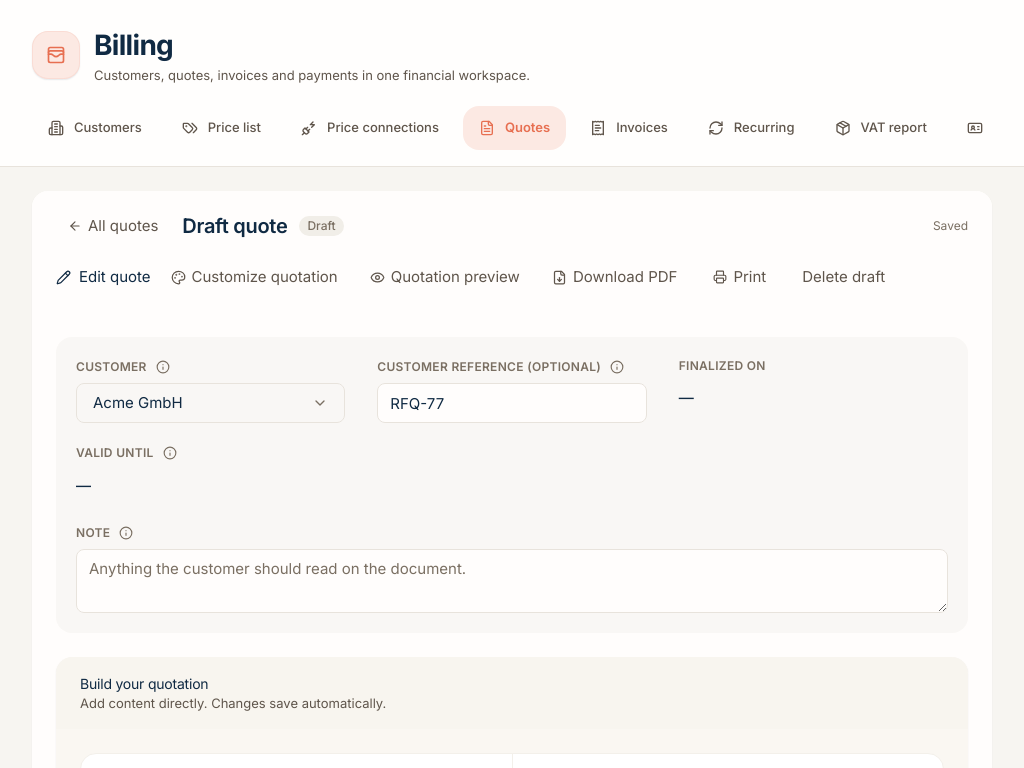
Scenario: the offer's transitions › keeps the quotation action bar stable and lets editing leave preview
The image size is (1024, 768).
Expected: the button "Edit quote" is enabled, [56,257,150,297]
Expected: the button "Customize quotation" is shown, [158,258,350,296]
Click the button "Quotation preview".
click(445, 277)  # box [358,258,532,296]
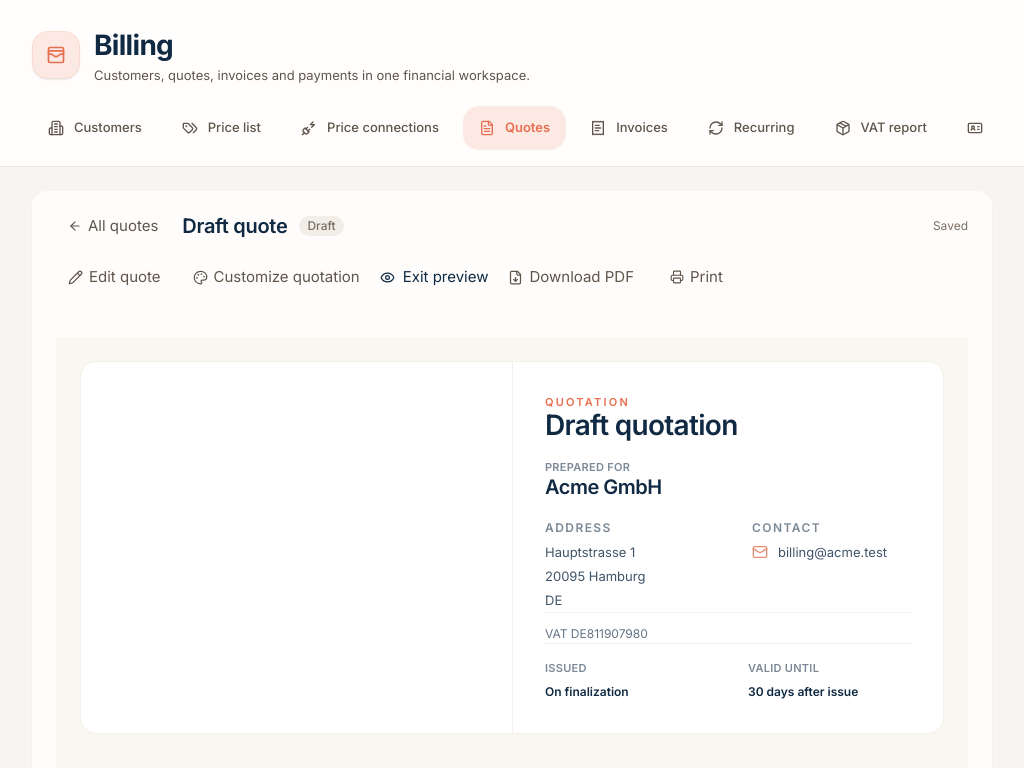
Expected: the button "Customize quotation" is enabled, [180,258,372,296]
Expected: the button "Exit preview" is pressed, [380,257,488,297]
Click the button "Edit quote".
click(114, 277)  # box [56,258,172,296]
(page scrolled)
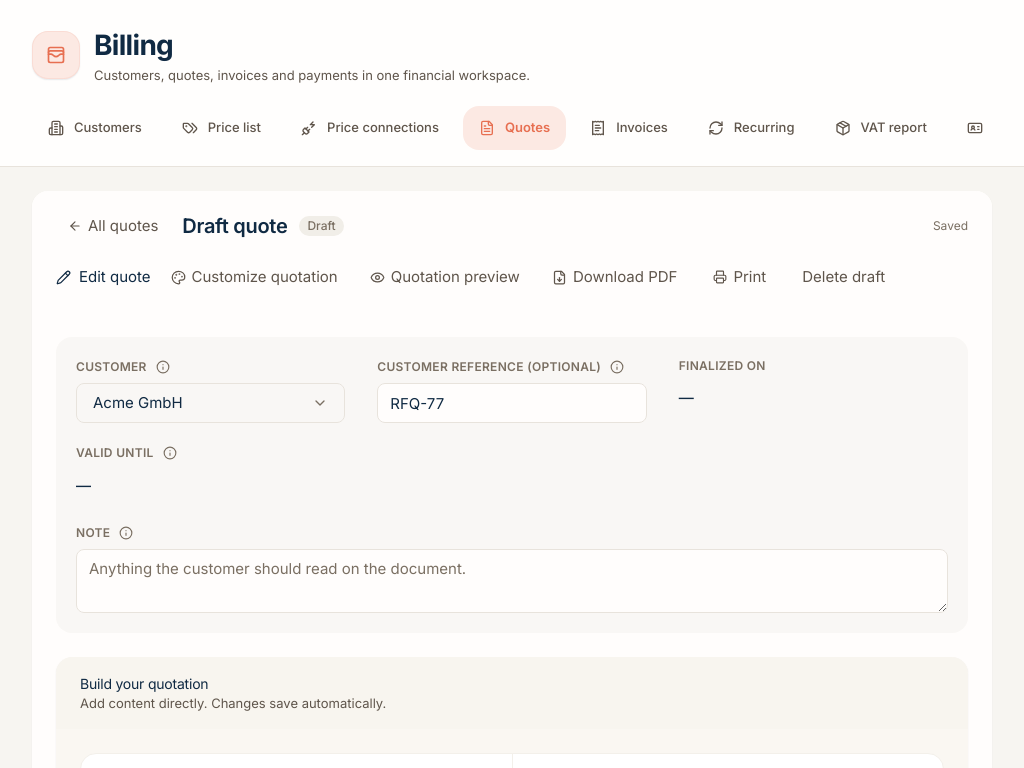
Expected: the button "Customize quotation" is enabled, [158,258,350,296]
Expected: the button "Quotation preview" is shown, [358,258,532,296]
